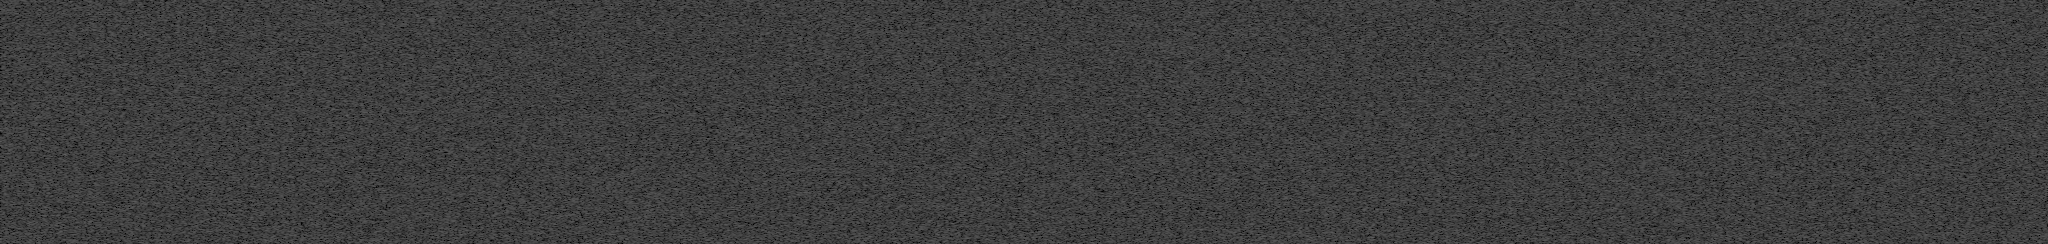wv_am: (125, 0, 131, 244)
wv_cw: (1930, 0, 1936, 244)
wv_lsb: (926, 107, 936, 244), (925, 1, 936, 106)
wv_wbfm: (1033, 0, 1379, 159), (1042, 167, 1370, 244)
